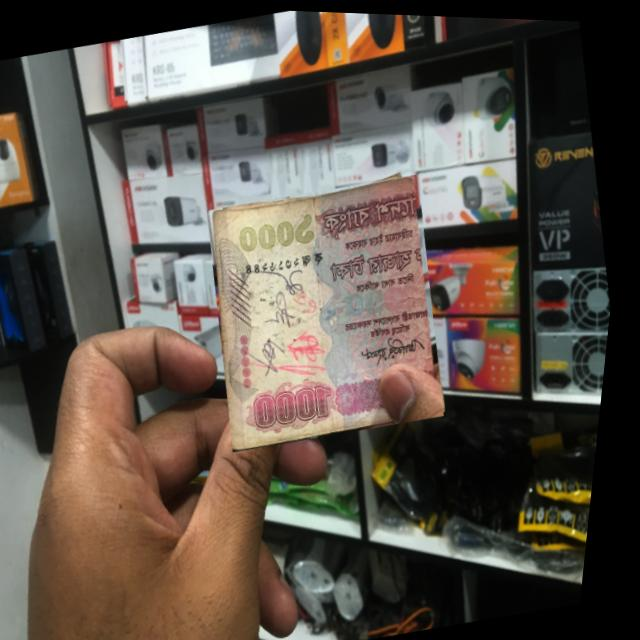Taka: (192, 165, 472, 455)
